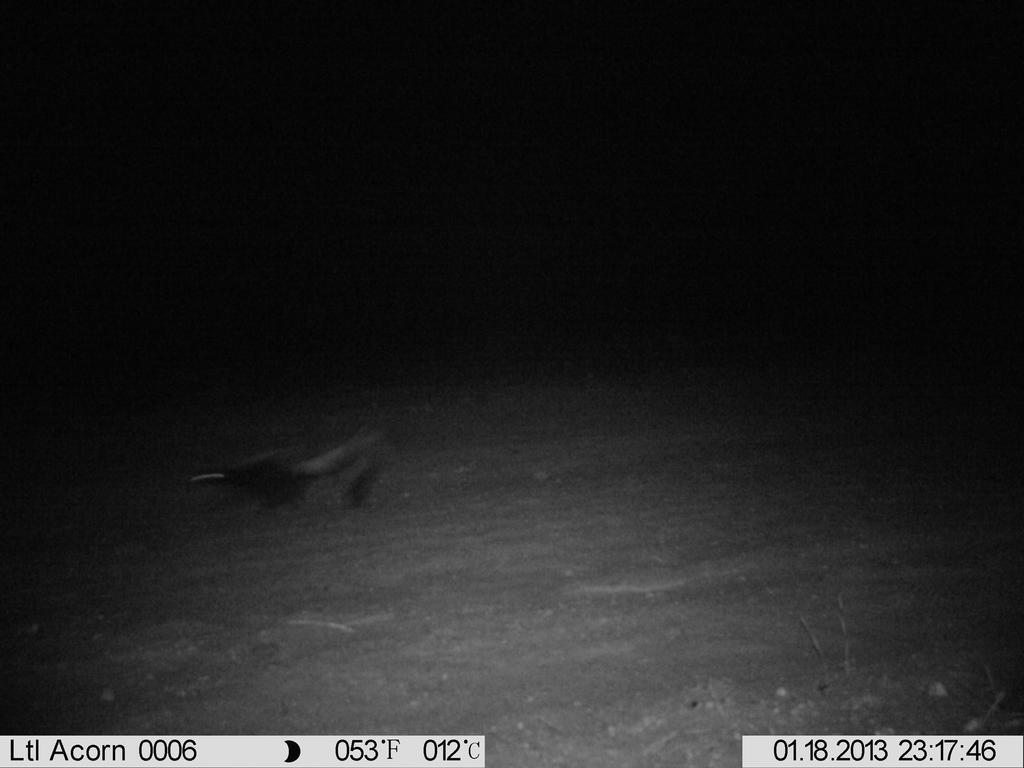skunk: (172, 415, 400, 528)
